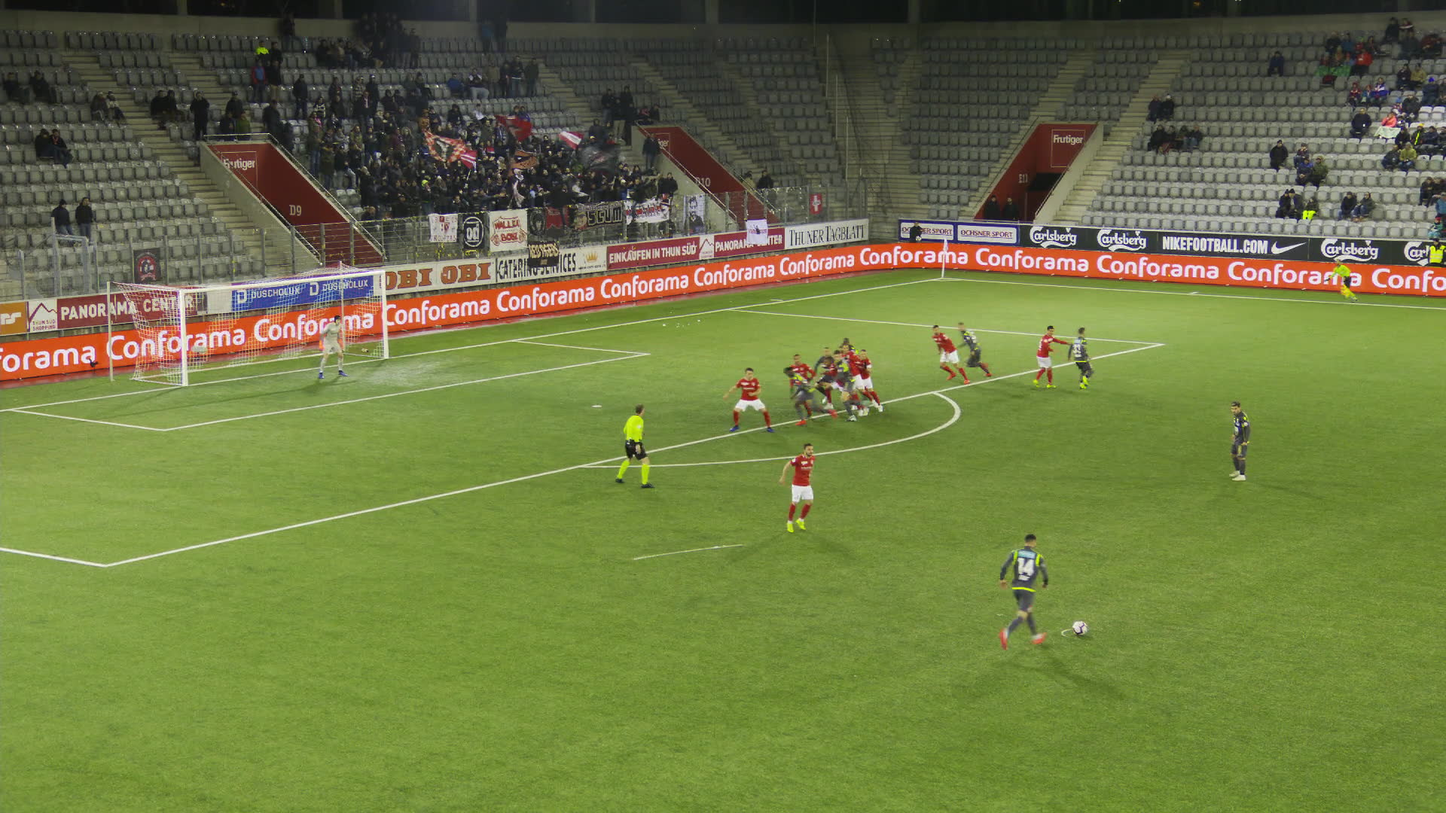ball: (1072, 619, 1088, 635)
player: (986, 534, 1052, 652), (774, 441, 817, 533), (782, 364, 839, 428), (726, 365, 776, 434), (831, 351, 874, 422), (1031, 324, 1072, 389), (961, 319, 1004, 377), (931, 323, 970, 385), (316, 314, 349, 379), (782, 352, 814, 419), (1064, 326, 1097, 389), (1228, 397, 1251, 483), (855, 347, 883, 417), (856, 347, 883, 416), (824, 343, 847, 412), (822, 355, 840, 417), (834, 336, 859, 355)
referee: (613, 402, 655, 489), (1328, 257, 1363, 303)
